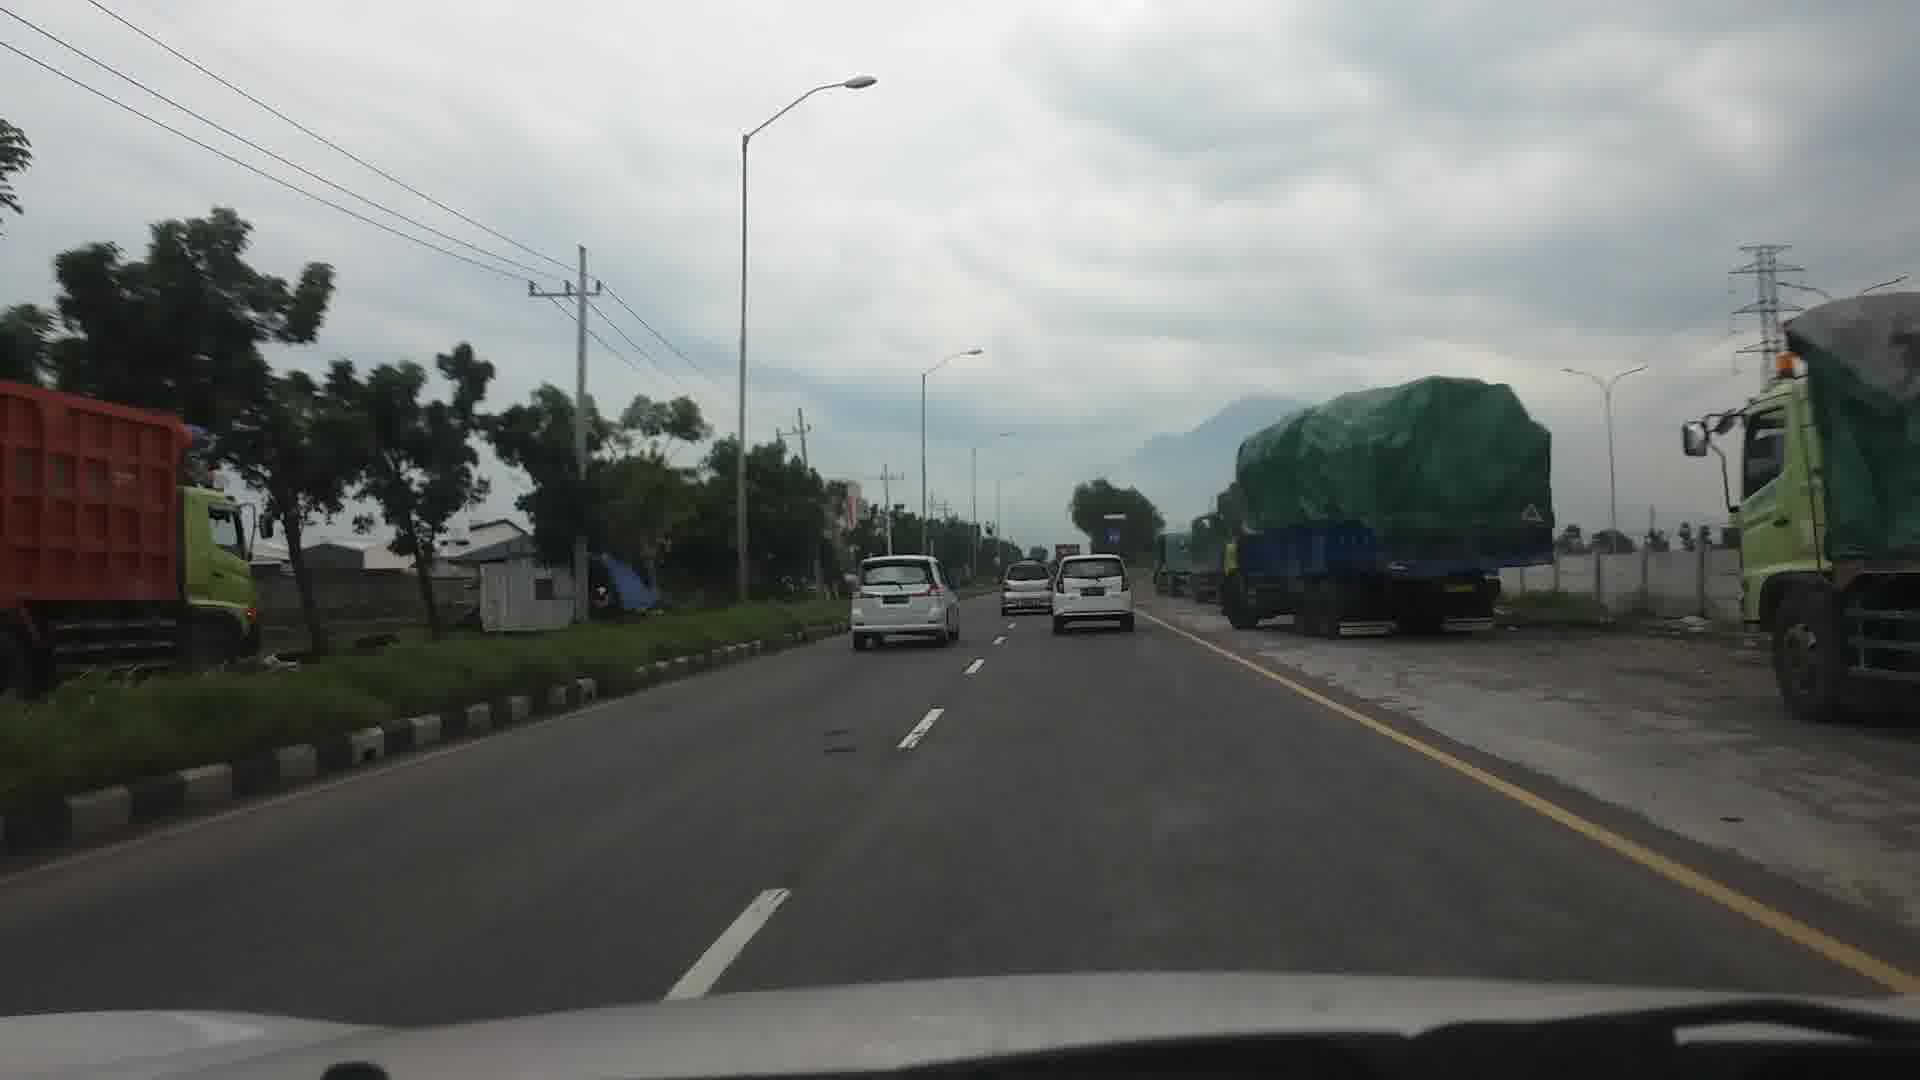plate_positive: (1080, 587, 1105, 597), (884, 595, 909, 604)
